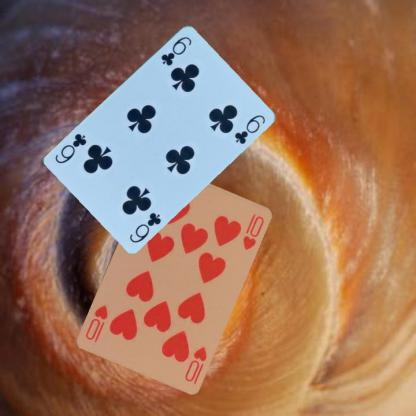10h: (182, 344, 208, 382)
6c: (126, 209, 162, 244), (158, 34, 193, 67)
